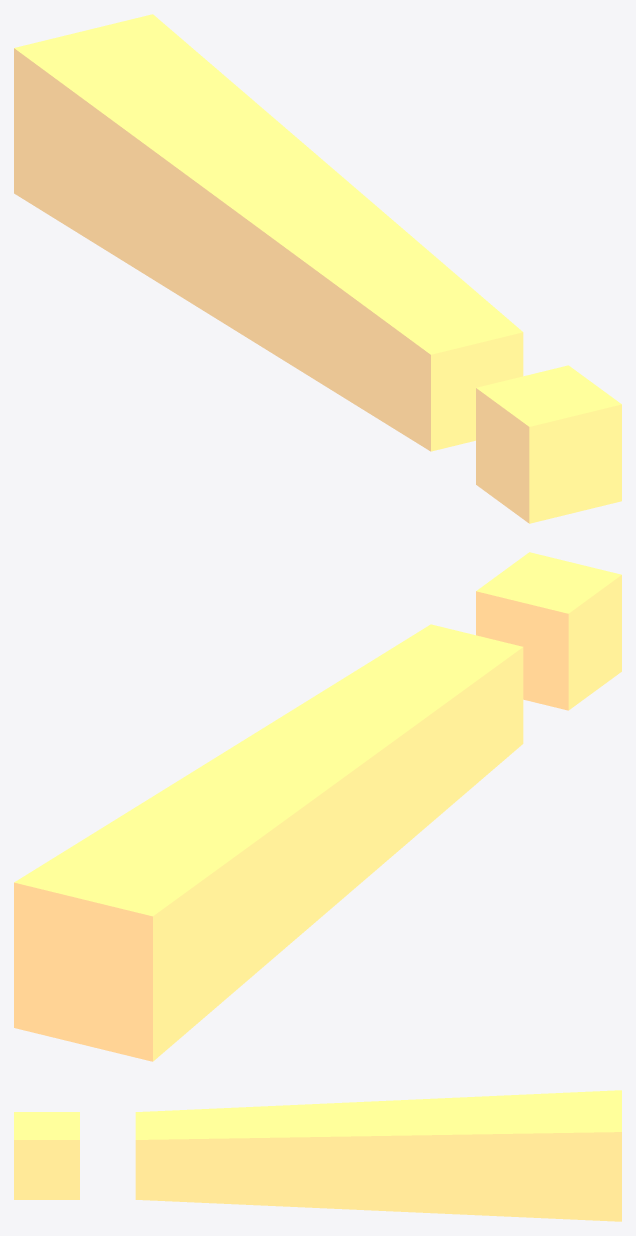
File: Task.gltf
The picture shows the model from 3 angles, top to bottom: view 1: azimuth 30°, elevation 25°; view 2: azimuth 150°, elevation 25°; view 3: azimuth 270°, elevation 25°; orthographic projection. The views are drawn at different scales.
Parts seen in each view (by area): view 1: Cube; view 2: Cube; view 3: Cube.
Part boxes in pixels (box(x1,y1,x2,y2)): Cube: box(14, 14, 621, 523); Cube: box(14, 552, 621, 1061); Cube: box(14, 1090, 621, 1221).
Bounding box in the file's own units: 0.1372 × 0.1372 × 0.842.
